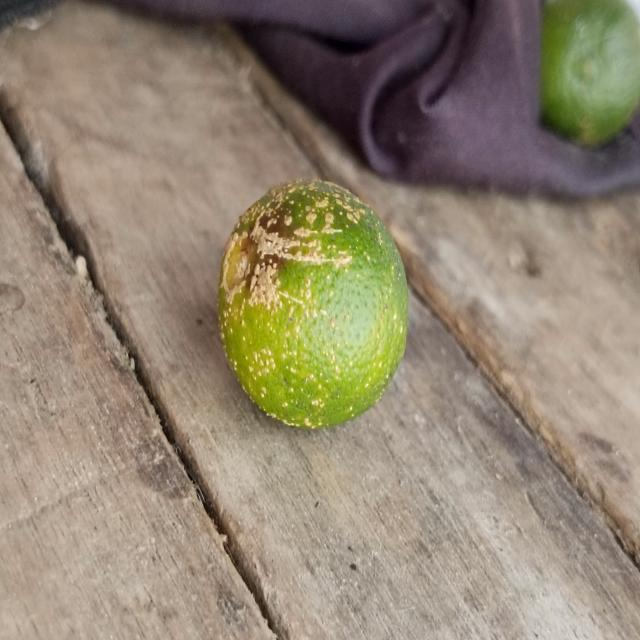scab: (219, 189, 409, 428)
